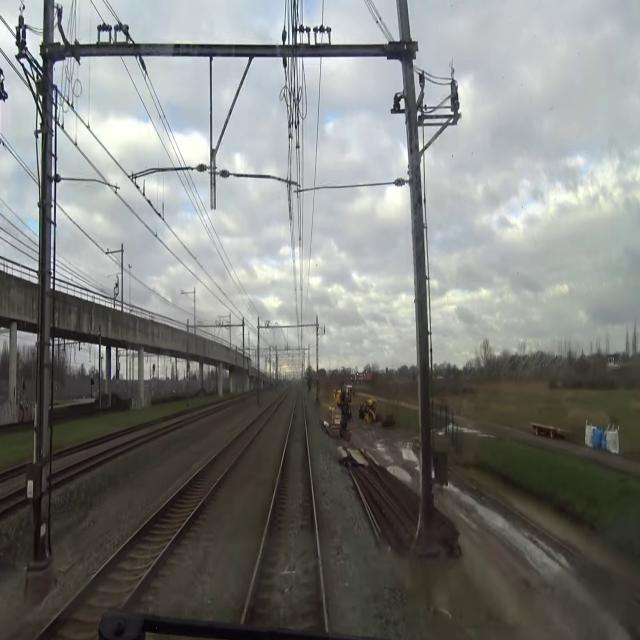rail-track: (42, 411, 268, 639), (247, 392, 323, 629), (0, 491, 26, 507)
